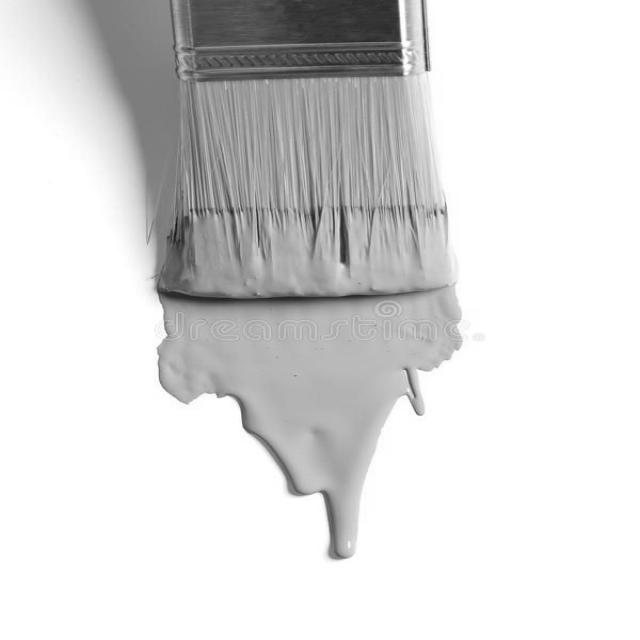paint drips: (166, 374, 432, 568)
